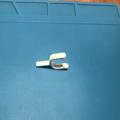u-shape: (35, 51, 69, 71)
